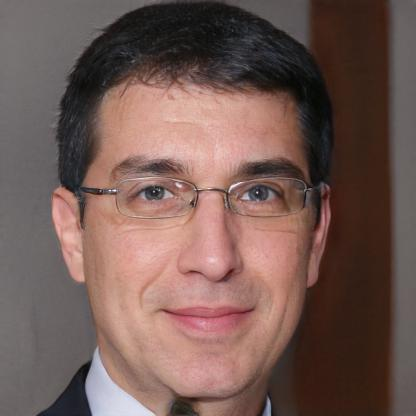glasses: (92, 172, 314, 231)
